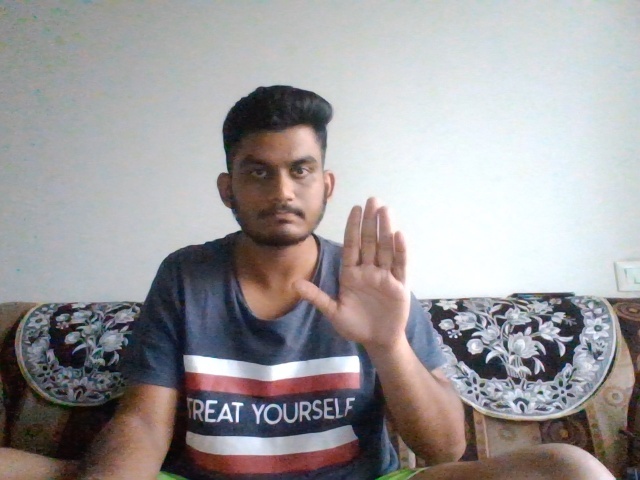Hello: (294, 194, 427, 350)
